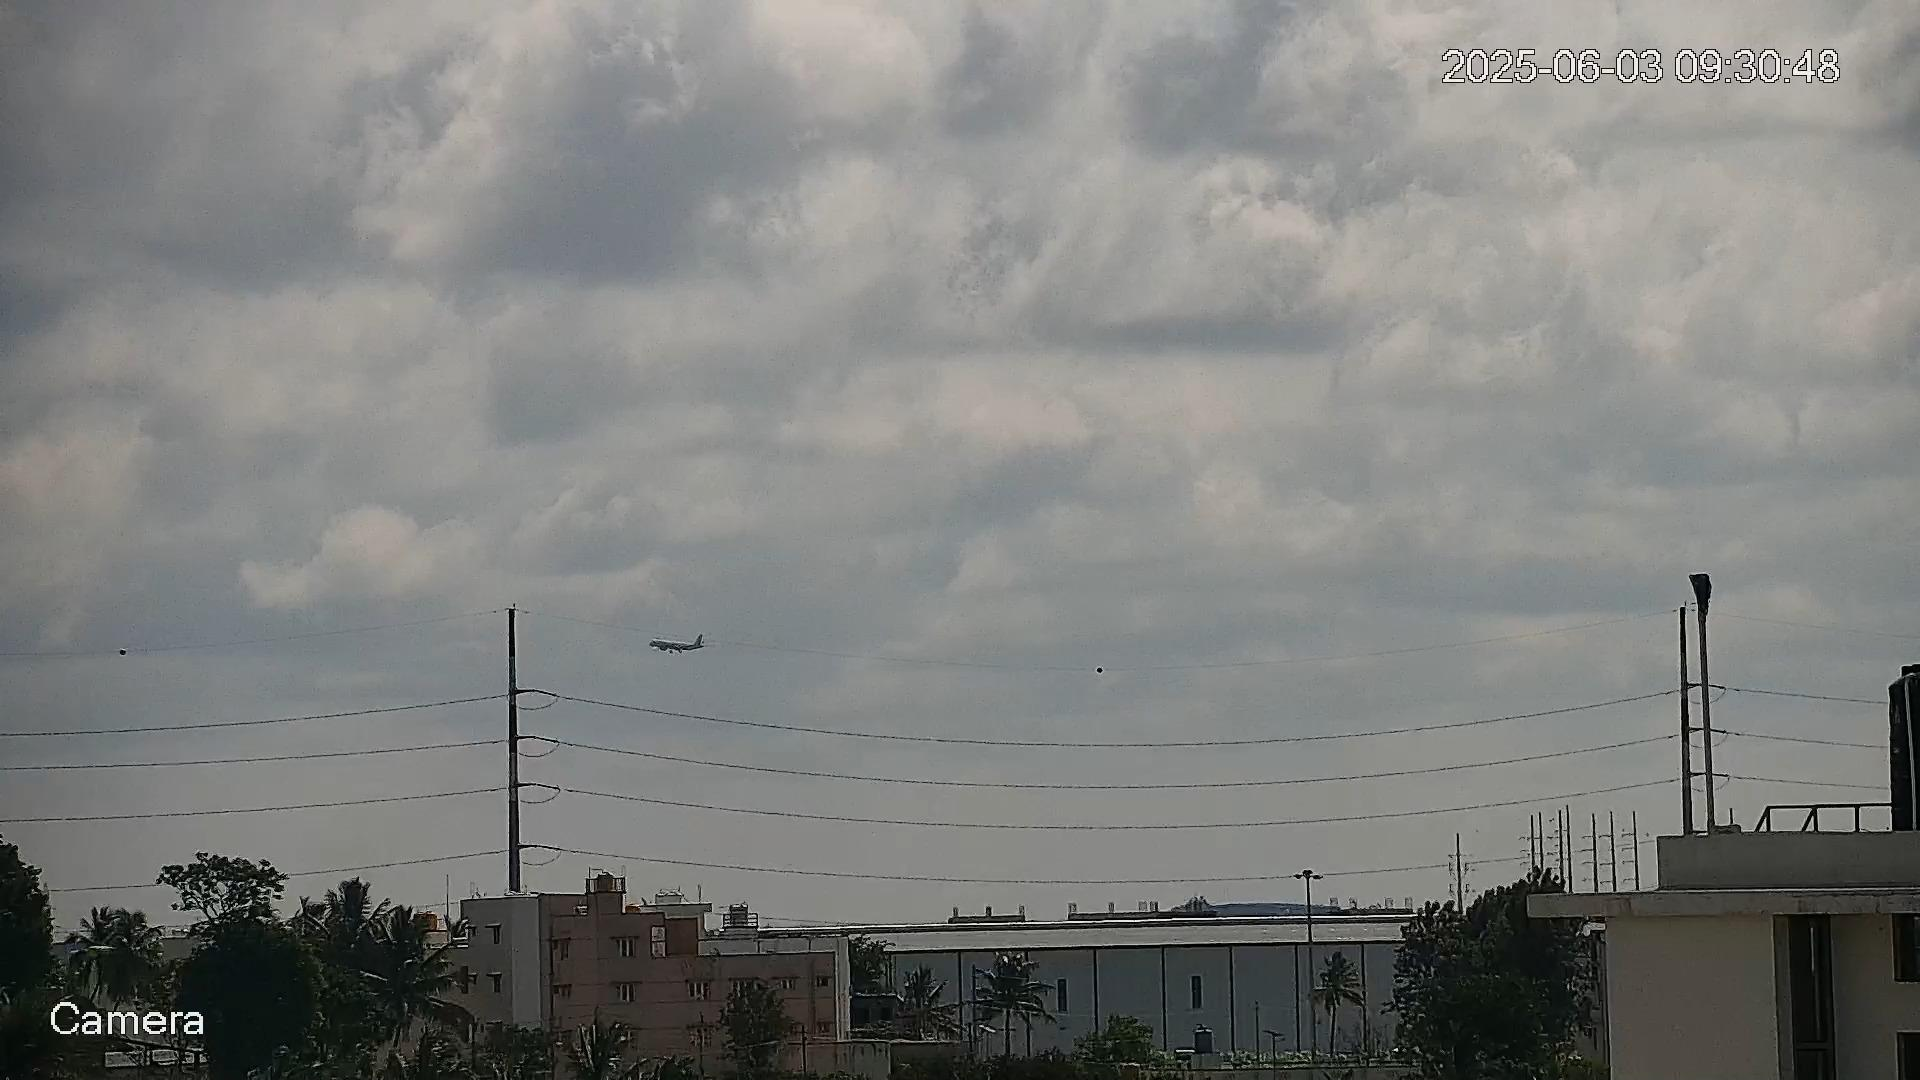Aircraft: (647, 633, 707, 654)
